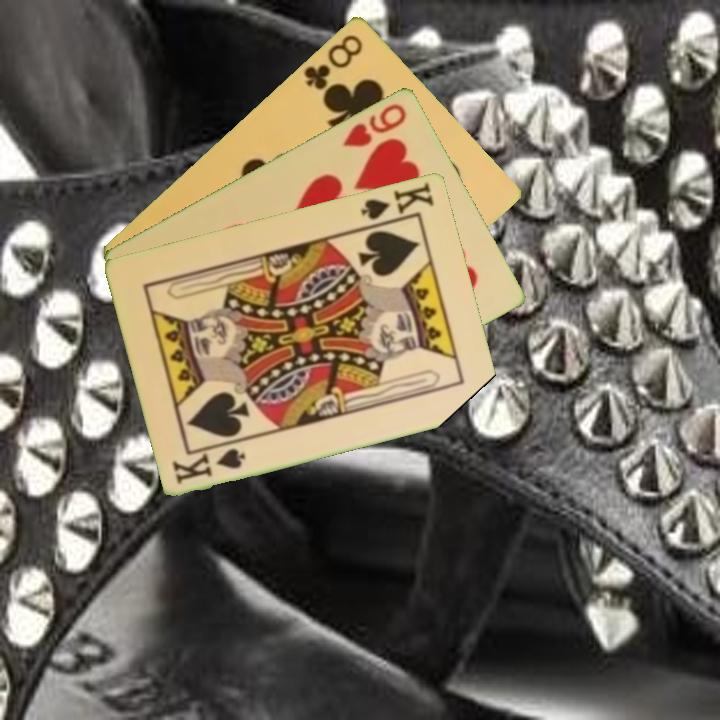8c: (300, 30, 366, 93)
9h: (339, 99, 410, 150)
Ks: (357, 178, 437, 230), (169, 444, 249, 487)
